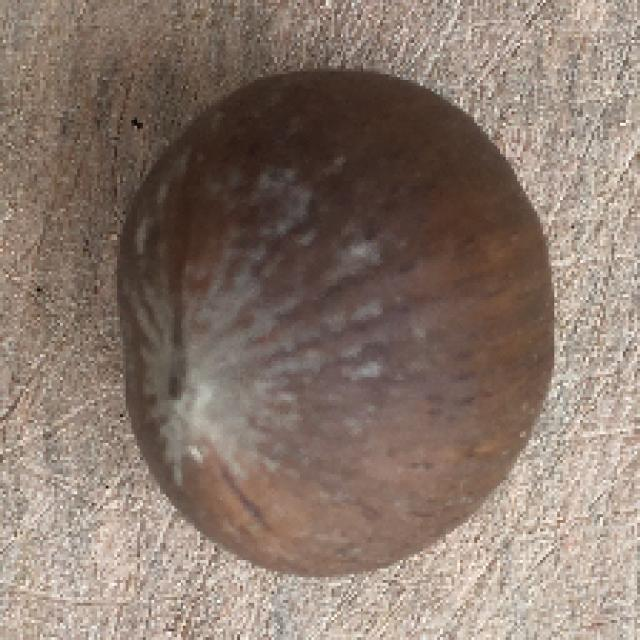DamagedHazelnut: (112, 72, 558, 569)
